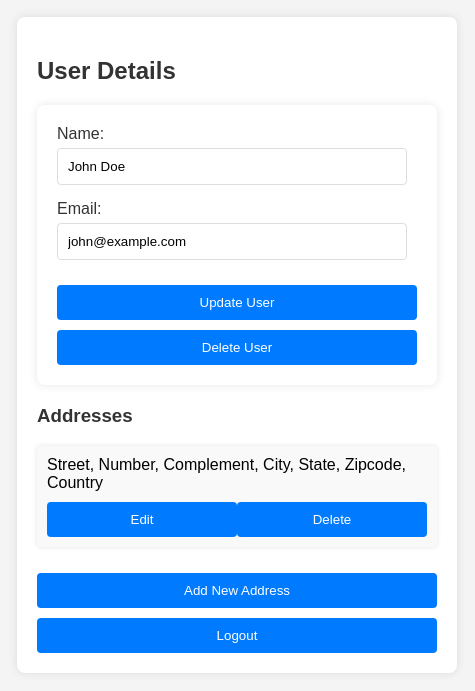
Scenario: User component › allows the user to delete an address
This screenshot has width=475, height=691.
Click the button "Delete": (332, 519) left=237, top=502, right=427, bottom=537
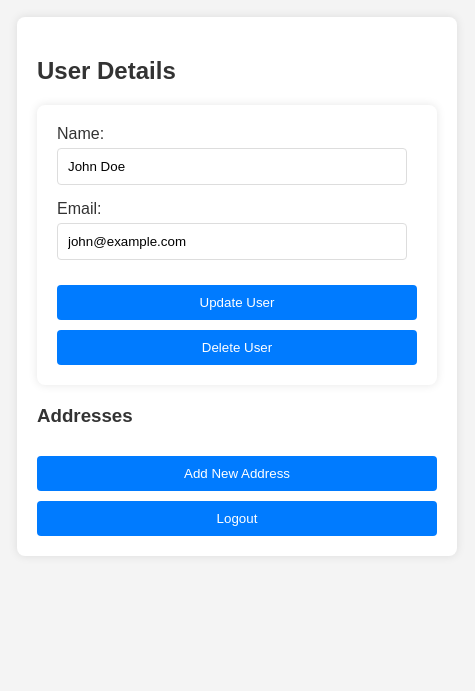
expect the list item "Street, Number, Complement, City, State, Zipcode, Country" is gone: met
